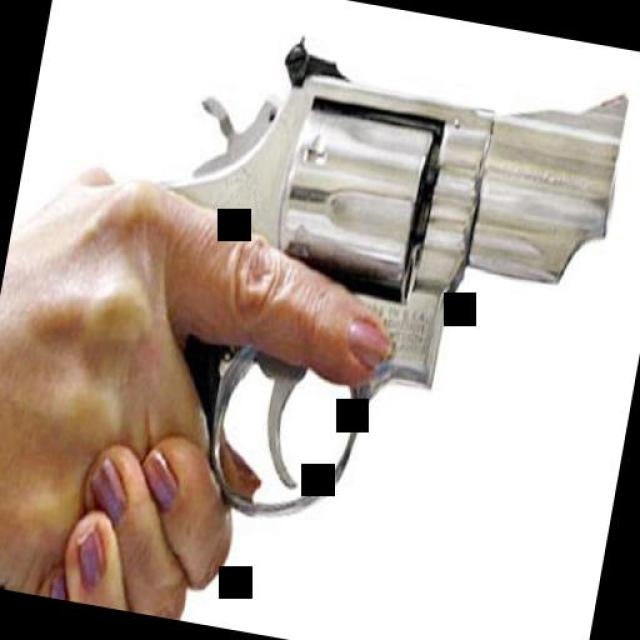gun: (86, 9, 634, 565)
